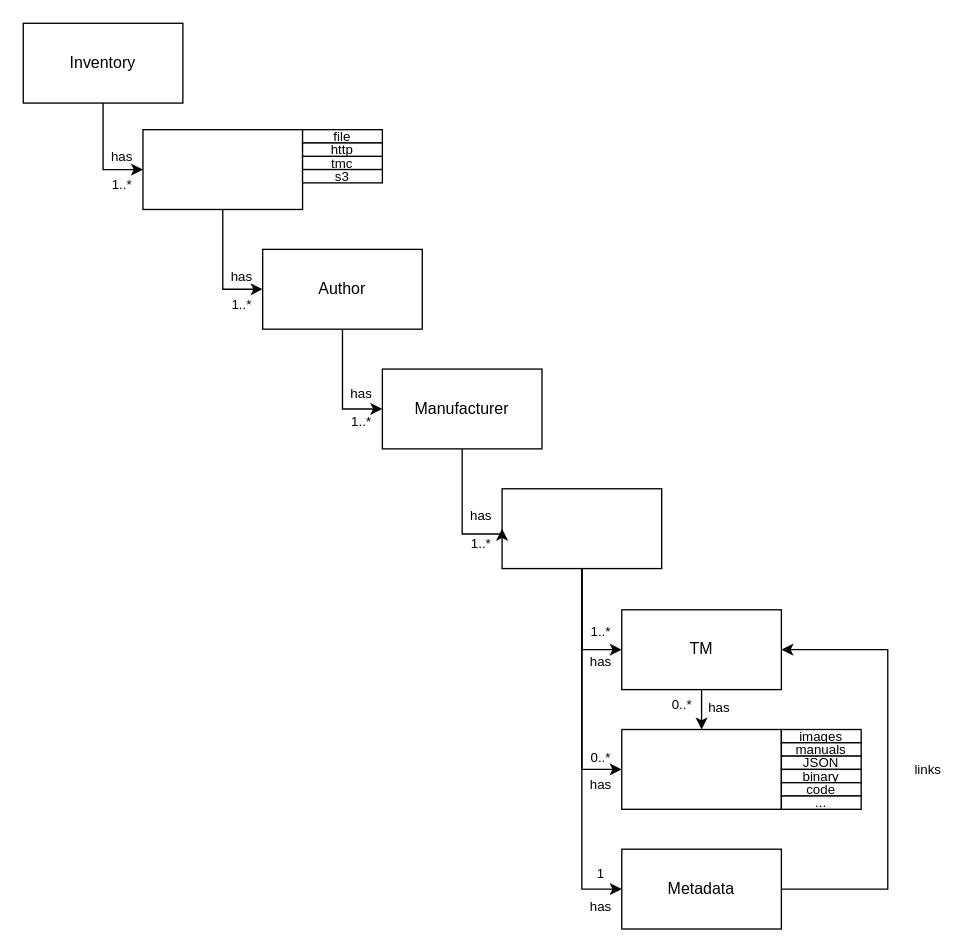
The diagram is 978 pixels wide and 952 high, and some of its shapes have lost their labels. The shapes that lost their labels are listed below. From the top down, each one's centre as x and y in pixels, then its label:
At pixel 222 168: "Repo".
At pixel 581 528: "Device".
At pixel 700 768: "Attachment".
